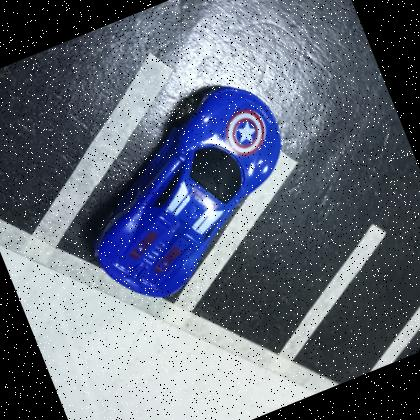Car: (91, 85, 282, 298)
